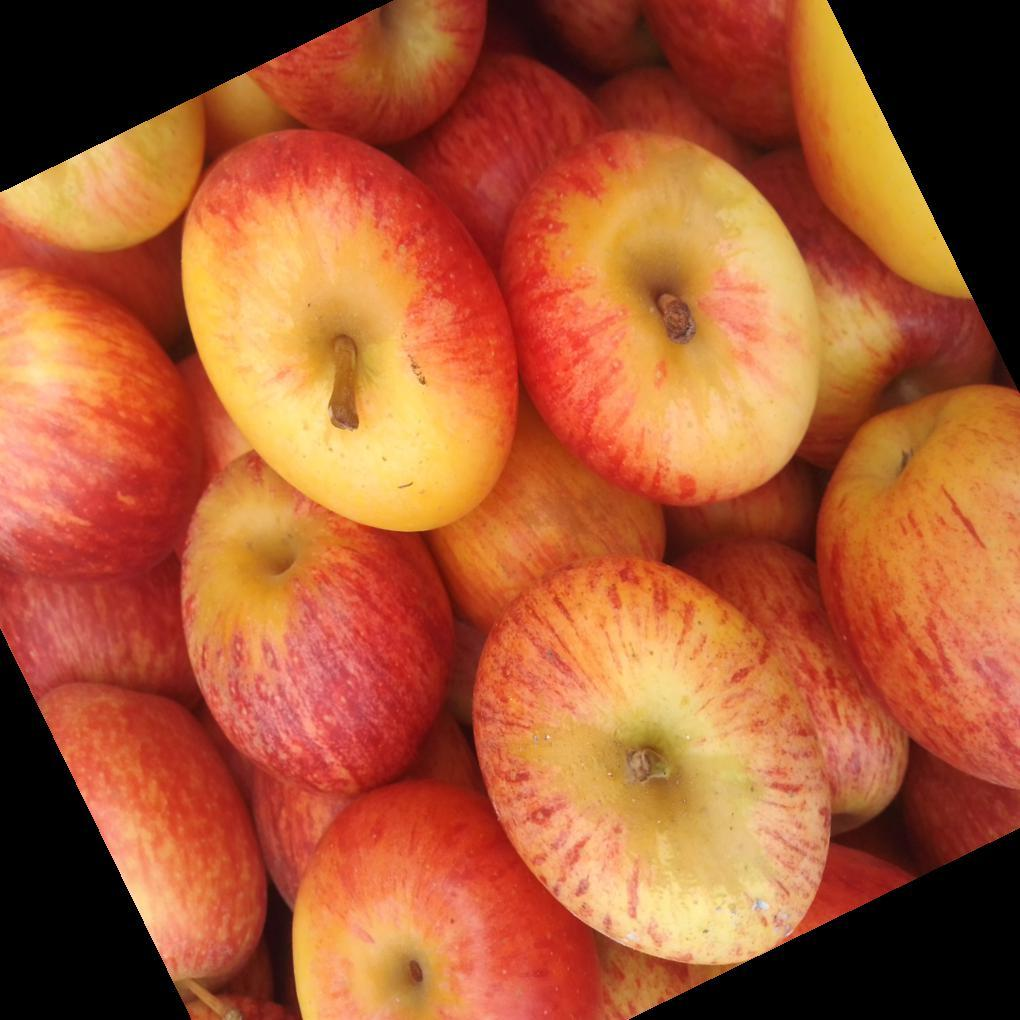FreshGuava: (42, 0, 1009, 1020)
